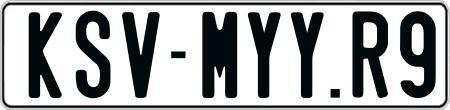9: (398, 9, 435, 98)
K: (27, 11, 62, 101)
M: (199, 9, 237, 101)
R: (350, 11, 386, 101)
S: (73, 8, 112, 96)
V: (121, 9, 162, 98)
Y: (288, 11, 323, 101), (246, 9, 279, 99)
